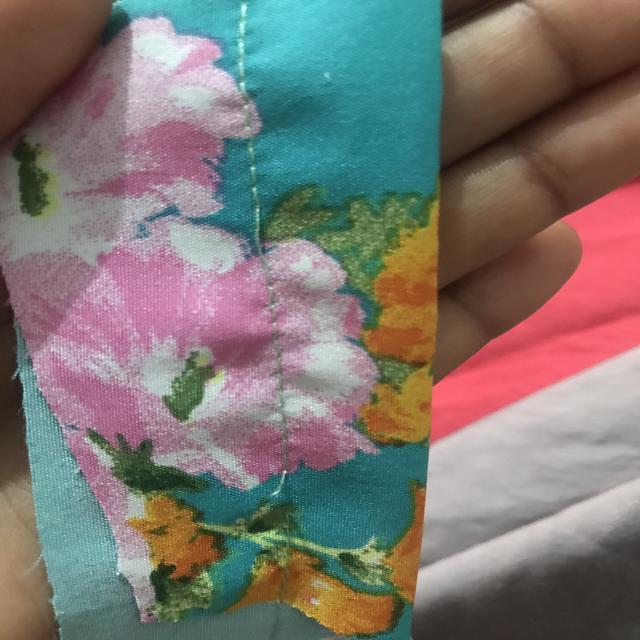broken: (252, 464, 316, 528)
skip: (243, 198, 286, 275)
